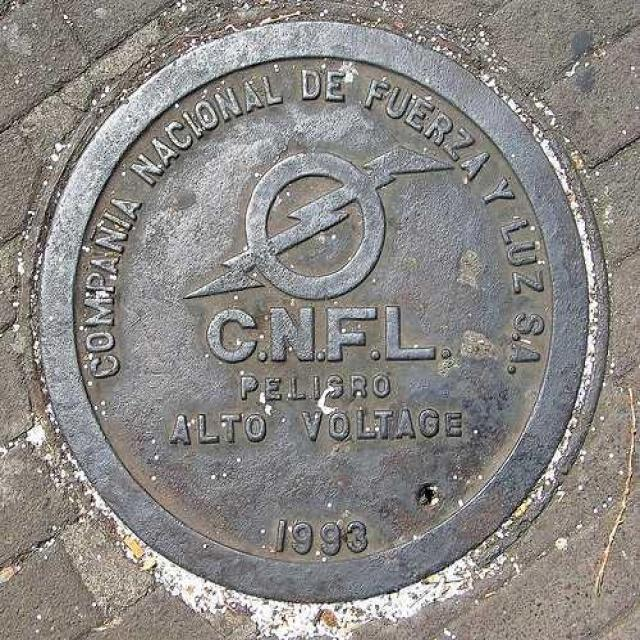manhole: (38, 20, 609, 608)
